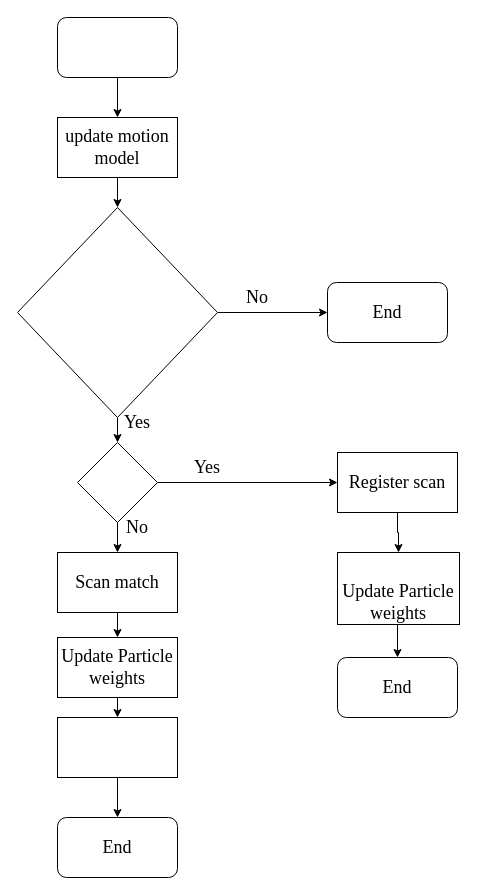
Some shapes in this 477 by 895 pixel diagram are drawn without their labels. The shapes that lost their labels are listed below. From the top down, each one's centre as x and y in pixels, then its label:
pixel 117 47: Start
pixel 117 312: linear distance > ⋎ or angular distance > Θ
pixel 117 482: First scan?
pixel 117 747: Resample
